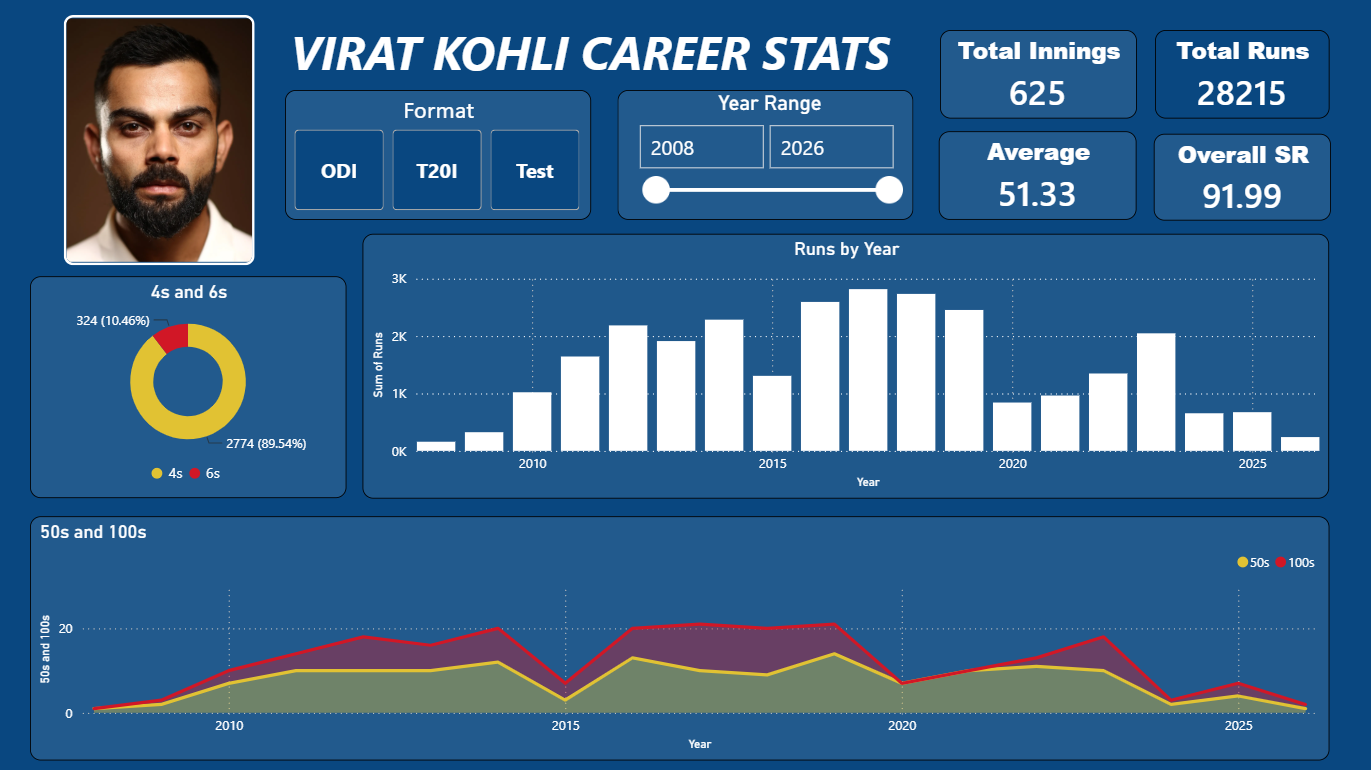

The dashboard page shown, as its layout file describes it:
{"tool":"powerbi","page":{"name":"Page ","canvas":[1280,720],"ordinal":0},"visuals":[{"type":"image","box":[59.1,13.8,177.4,232.4],"z":0},{"type":"cardVisual","title":"Total Innings","fields":{"Data":["Sum(Sheet1.Innings)"]},"box":[874.6,27.5,182.9,82.5],"z":1000},{"type":"textbox","box":[265.4,13.8,599.6,82.5],"z":2000},{"type":"cardVisual","title":"Total Runs","fields":{"Data":["Sum(Sheet1.Runs)"]},"box":[1074.3,27.5,162.3,82.5],"z":3000},{"type":"cardVisual","title":" Average","fields":{"Data":["Avg(Sheet1.Avg)"]},"box":[873.2,122.4,184.3,82.5],"z":4000},{"type":"advancedSlicerVisual","fields":{"Values":["Sheet1.Format"]},"box":[265.4,83.9,284.7,121],"z":5000},{"type":"cardVisual","title":"Overall SR","fields":{"Data":["Avg(Sheet1.SR)"]},"box":[1072.7,124.1,165,81.1],"z":6000},{"type":"clusteredColumnChart","title":"Runs by Year","fields":{"Category":["Sheet1.Year"],"Y":["Sum(Sheet1.Runs)"]},"box":[336.9,217.3,899.4,246.2],"z":7000},{"type":"slicer","title":"Year Range","fields":{"Values":["Sheet1.Year"]},"box":[574.8,83.9,275,121],"z":8000},{"type":"donutChart","title":"4s and 6s","fields":{"Y":["Sum(Sheet1.4s)","Sum(Sheet1.6s)"]},"box":[27.5,257.2,294.3,206.3],"z":9000},{"type":"stackedAreaChart","title":"50s and 100s ","fields":{"Category":["Sheet1.Year"],"Y":["Sum(Sheet1.50)","Sum(Sheet1.100)"]},"box":[27.5,479.9,1208.8,226.9],"z":10000}]}

Visuals, with their boxes in screenshot pixels (x1, y1, x2, y2), scaled from the page's 1280x720 canvas onto the 1371x770 screenshot:
image: [63, 15, 253, 263]
"Total Innings" cardVisual: [937, 29, 1133, 118]
textbox: [284, 15, 926, 103]
"Total Runs" cardVisual: [1151, 29, 1325, 118]
" Average" cardVisual: [935, 131, 1133, 219]
advancedSlicerVisual - Sheet1.Format: [284, 90, 589, 219]
"Overall SR" cardVisual: [1149, 133, 1326, 219]
"Runs by Year" clusteredColumnChart: [361, 232, 1324, 496]
"Year Range" slicer: [616, 90, 910, 219]
"4s and 6s" donutChart: [29, 275, 345, 496]
"50s and 100s " stackedAreaChart: [29, 513, 1324, 756]
